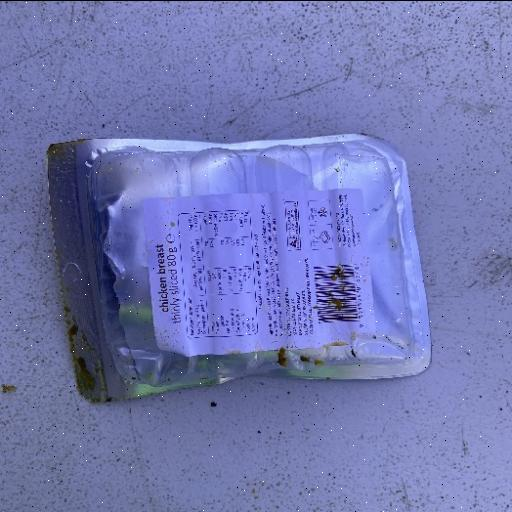Plastic: (46, 131, 432, 405)
